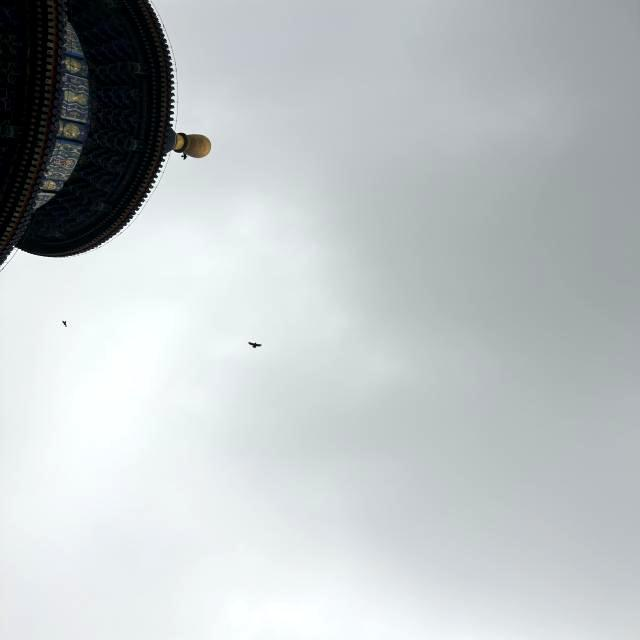bird: (56, 312, 79, 333), (244, 335, 268, 355)
